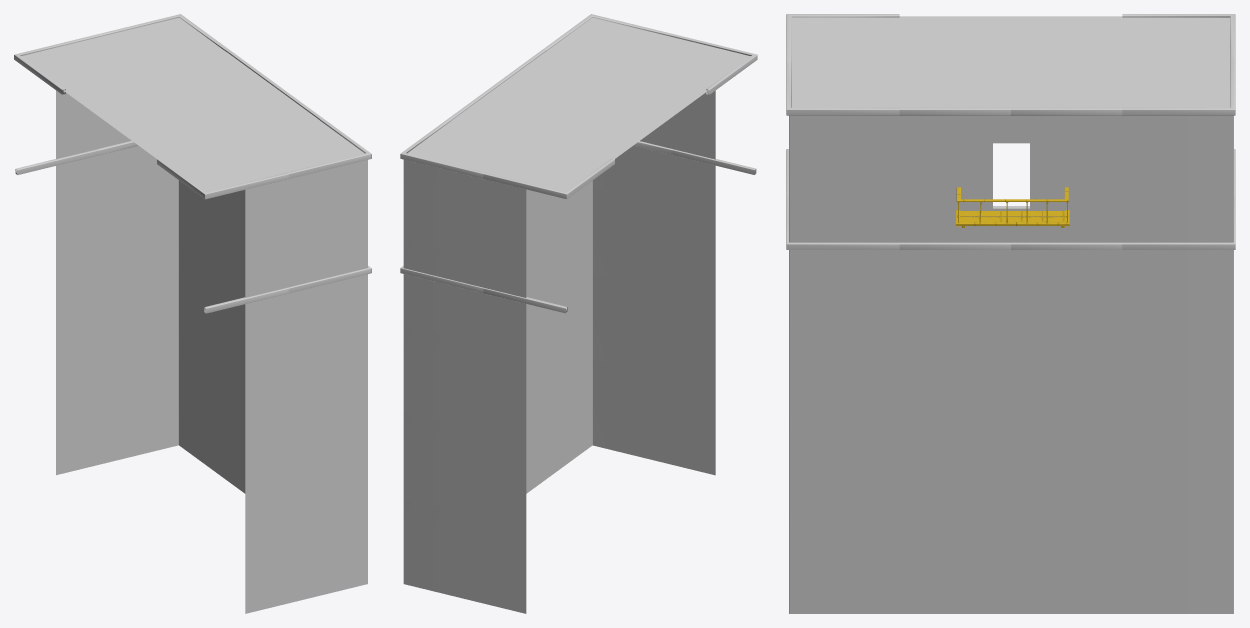
The model's file is HOTRUN_PIZZA_5.fbx.
3 renders of one model, left to right at view 1: azimuth 30°, elevation 25°; view 2: azimuth 150°, elevation 25°; view 3: azimuth 270°, elevation 25°, orthographic. The views are drawn at different scales.
Visible parts, largest first — view 1: 3*3.2577, 3*3.2578, 3*3.2576, 3*3.2582, 3*3.2581, 3*3.2583, 3*3.2574, 3*3.2575, 3*3.2580, 3*3.2567, 3*3.2569, 3*3.2568 (+26 smaller); view 2: 3*3.2582, 3*3.2583, 3*3.2576, 3*3.2577, 3*3.2578, 3*3.2581, 3*3.2579, 3*3.2580, 3*3.2575, 3*3.2558, 3*3.2557, 3*3.2556 (+26 smaller); view 3: 3*3.2154, 3*3.2155, 3*3.2156, 3*3.2559, 3*3.2560, 3*3.2561, 3*3.2562, 3*3.2563, 3*3.2564, 3*3.2277, 3*3.2274, 3*3.2278 (+32 smaller).
Part boxes in pixels (x1,y1,x2,y2): 3*3.2577: (245,422,327,527); 3*3.2578: (245,508,327,613); 3*3.2576: (245,336,327,442); 3*3.2582: (56,283,137,389); 3*3.2581: (56,198,137,303); 3*3.2583: (56,369,137,475); 3*3.2574: (245,170,327,270); 3*3.2575: (245,251,327,356); 3*3.2580: (56,120,137,217); 3*3.2567: (138,188,202,290); 3*3.2569: (138,359,202,462); 3*3.2568: (138,273,202,376); 3*3.2582: (444,422,526,527); 3*3.2583: (444,508,526,613); 3*3.2576: (633,198,715,303); 3*3.2577: (633,284,715,389); 3*3.2578: (633,370,715,475); 3*3.2581: (444,336,526,442); 3*3.2579: (444,169,526,270); 3*3.2580: (444,251,526,356); 3*3.2575: (633,120,715,217); 3*3.2558: (569,359,633,462); 3*3.2557: (569,274,633,376); 3*3.2556: (569,188,633,290); 3*3.2154: (844,311,955,412); 3*3.2155: (956,311,1067,412); 3*3.2156: (1067,311,1178,412); 3*3.2559: (844,412,955,512); 3*3.2560: (956,412,1067,512); 3*3.2561: (1067,412,1178,512); 3*3.2562: (844,513,955,613); 3*3.2563: (956,513,1067,613); 3*3.2564: (1067,513,1178,613); 3*3.2277: (844,115,955,210); 3*3.2274: (1067,115,1178,210); 3*3.2278: (844,210,955,311).
Bounding box in the file's own units: 6.9 × 15.05 × 12.11.
